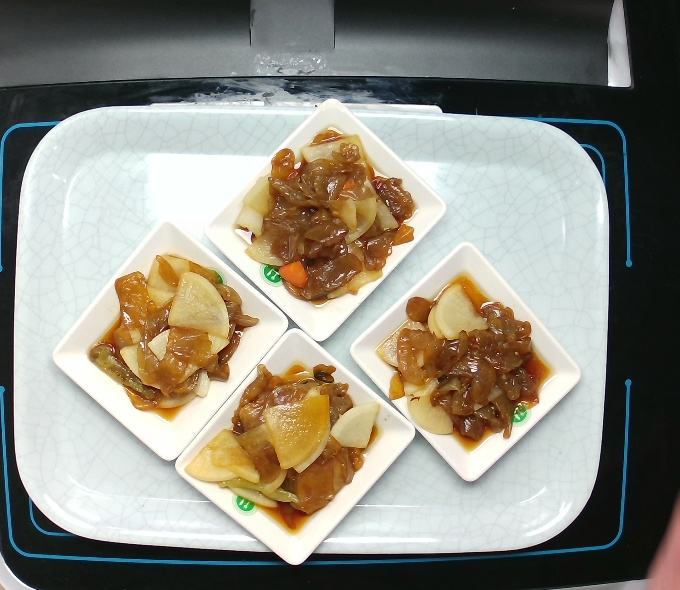wcq-HaiZheTou: (180, 356, 383, 534), (230, 127, 420, 306), (88, 245, 266, 419), (373, 274, 548, 446)
